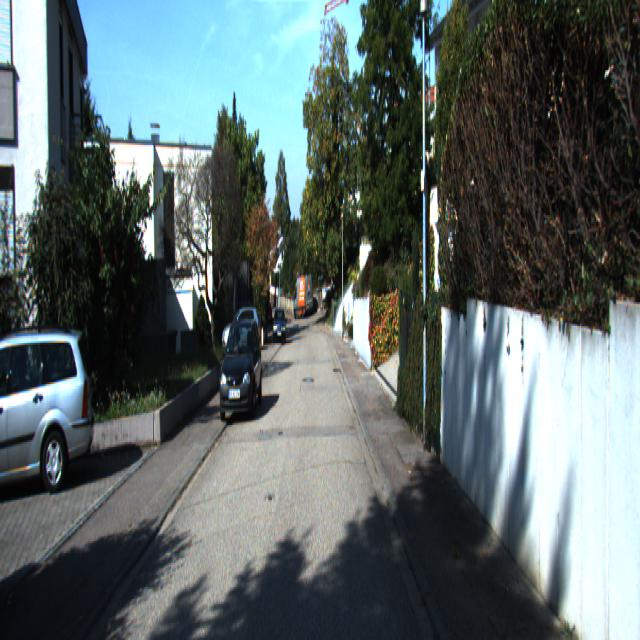Car: (0, 326, 96, 509), (217, 317, 264, 423), (221, 307, 262, 355), (293, 276, 314, 320), (272, 308, 286, 344)
